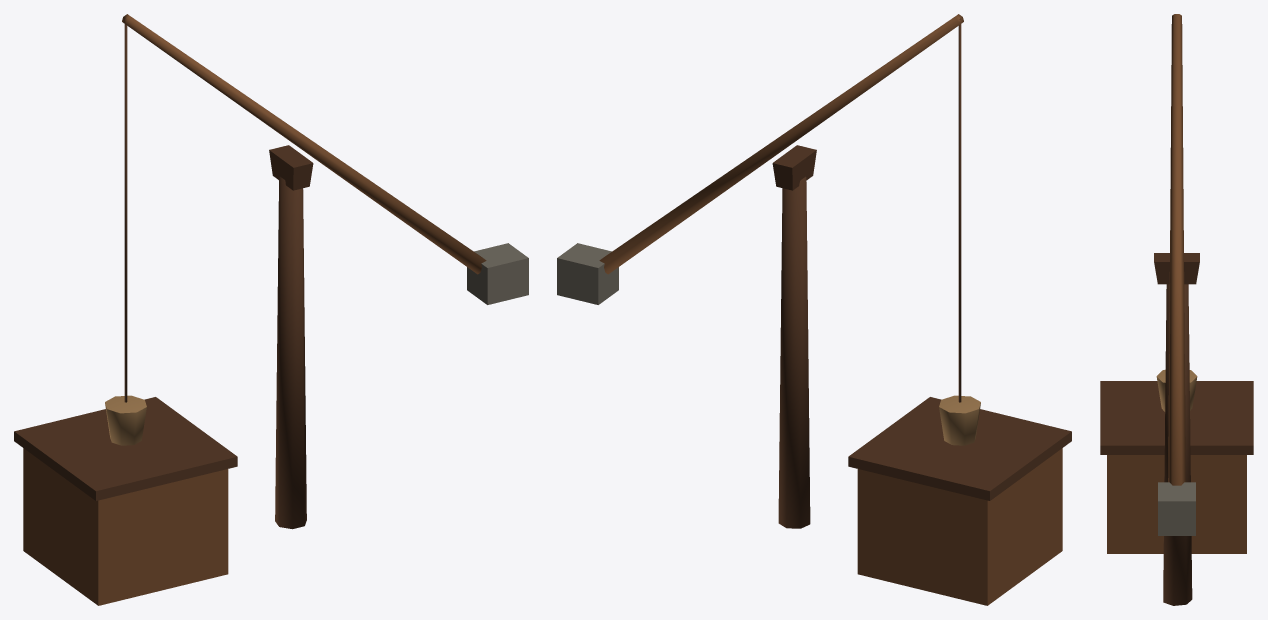
Rendered from zhuravel.glb.
3 renders of one model, left to right at view 1: azimuth 30°, elevation 25°; view 2: azimuth 150°, elevation 25°; view 3: azimuth 270°, elevation 25°, orthographic. The views are drawn at different scales.
Visible parts, largest first — view 1: zhuravel; view 2: zhuravel; view 3: zhuravel.
Part boxes in pixels (left/top/right/bottom): zhuravel: left=14, top=14, right=528, bottom=605; zhuravel: left=557, top=14, right=1071, bottom=605; zhuravel: left=1100, top=14, right=1253, bottom=605.
Size of the model in its own units: 3.93 by 4.43 by 1.2.
